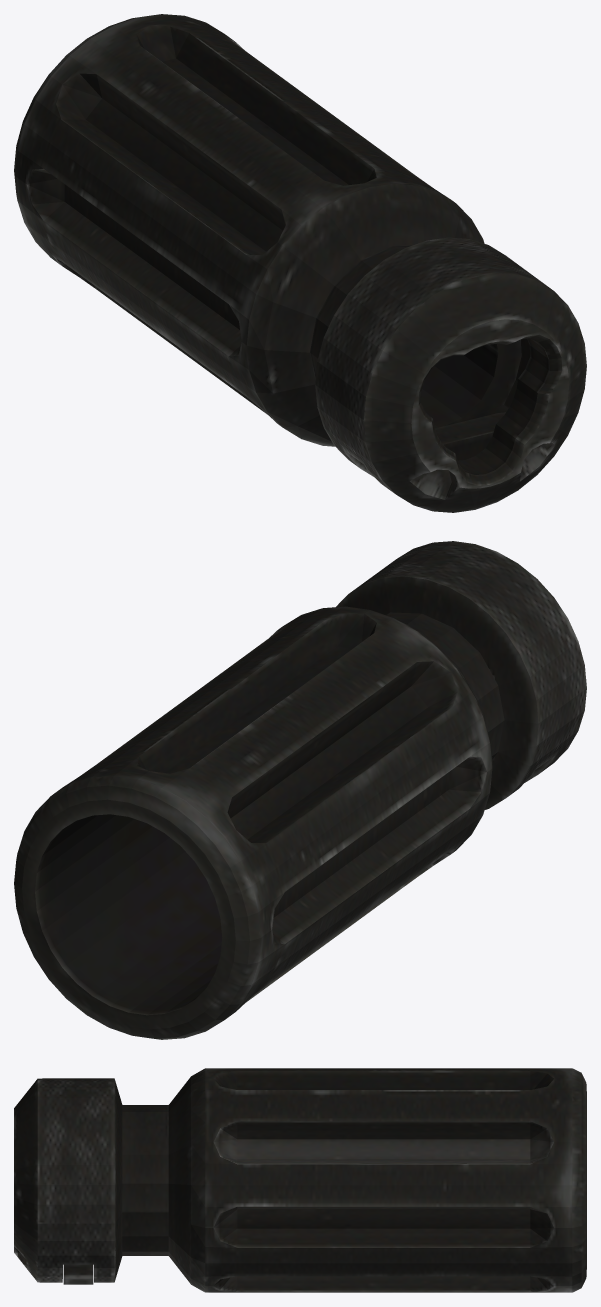
The picture shows the model from 3 angles, top to bottom: view 1: azimuth 30°, elevation 25°; view 2: azimuth 150°, elevation 25°; view 3: azimuth 270°, elevation 25°; orthographic projection. The views are drawn at different scales.
Visible parts, largest first — view 1: TW_5c07c5ed0db834001b73571c_PZ_Import; view 2: TW_5c07c5ed0db834001b73571c_PZ_Import; view 3: TW_5c07c5ed0db834001b73571c_PZ_Import.
Boxes of the visible parts, x1=… form: TW_5c07c5ed0db834001b73571c_PZ_Import: x1=14, y1=14, x2=586, y2=512; TW_5c07c5ed0db834001b73571c_PZ_Import: x1=14, y1=541, x2=586, y2=1039; TW_5c07c5ed0db834001b73571c_PZ_Import: x1=14, y1=1068, x2=586, y2=1292.
Bounding box in the file's own units: 0.0186 × 0.0476 × 0.0186.
Materials: 1 (1 with a texture image).
